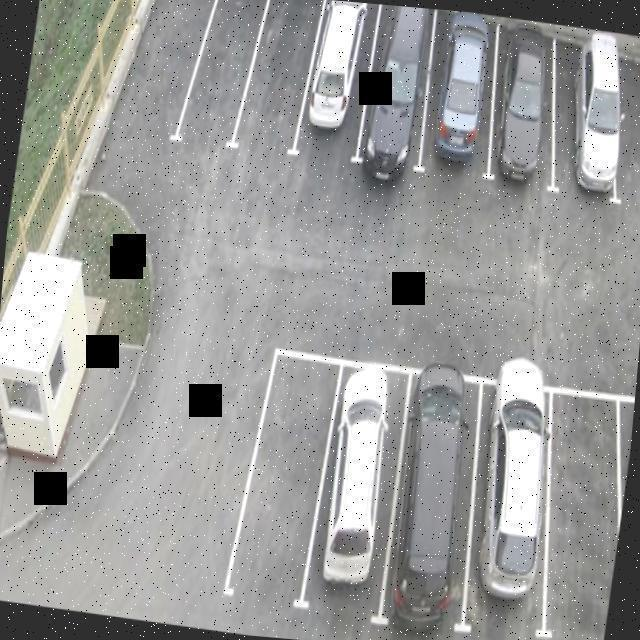space-empty: (222, 343, 343, 624), (533, 374, 635, 640), (116, 0, 213, 141), (236, 0, 321, 160), (186, 0, 262, 153), (601, 61, 640, 201)
space-occupied: (374, 357, 492, 636), (457, 340, 566, 640), (298, 358, 402, 624), (415, 9, 509, 186), (475, 18, 567, 198), (538, 24, 630, 198), (360, 4, 442, 180), (297, 0, 382, 164)
